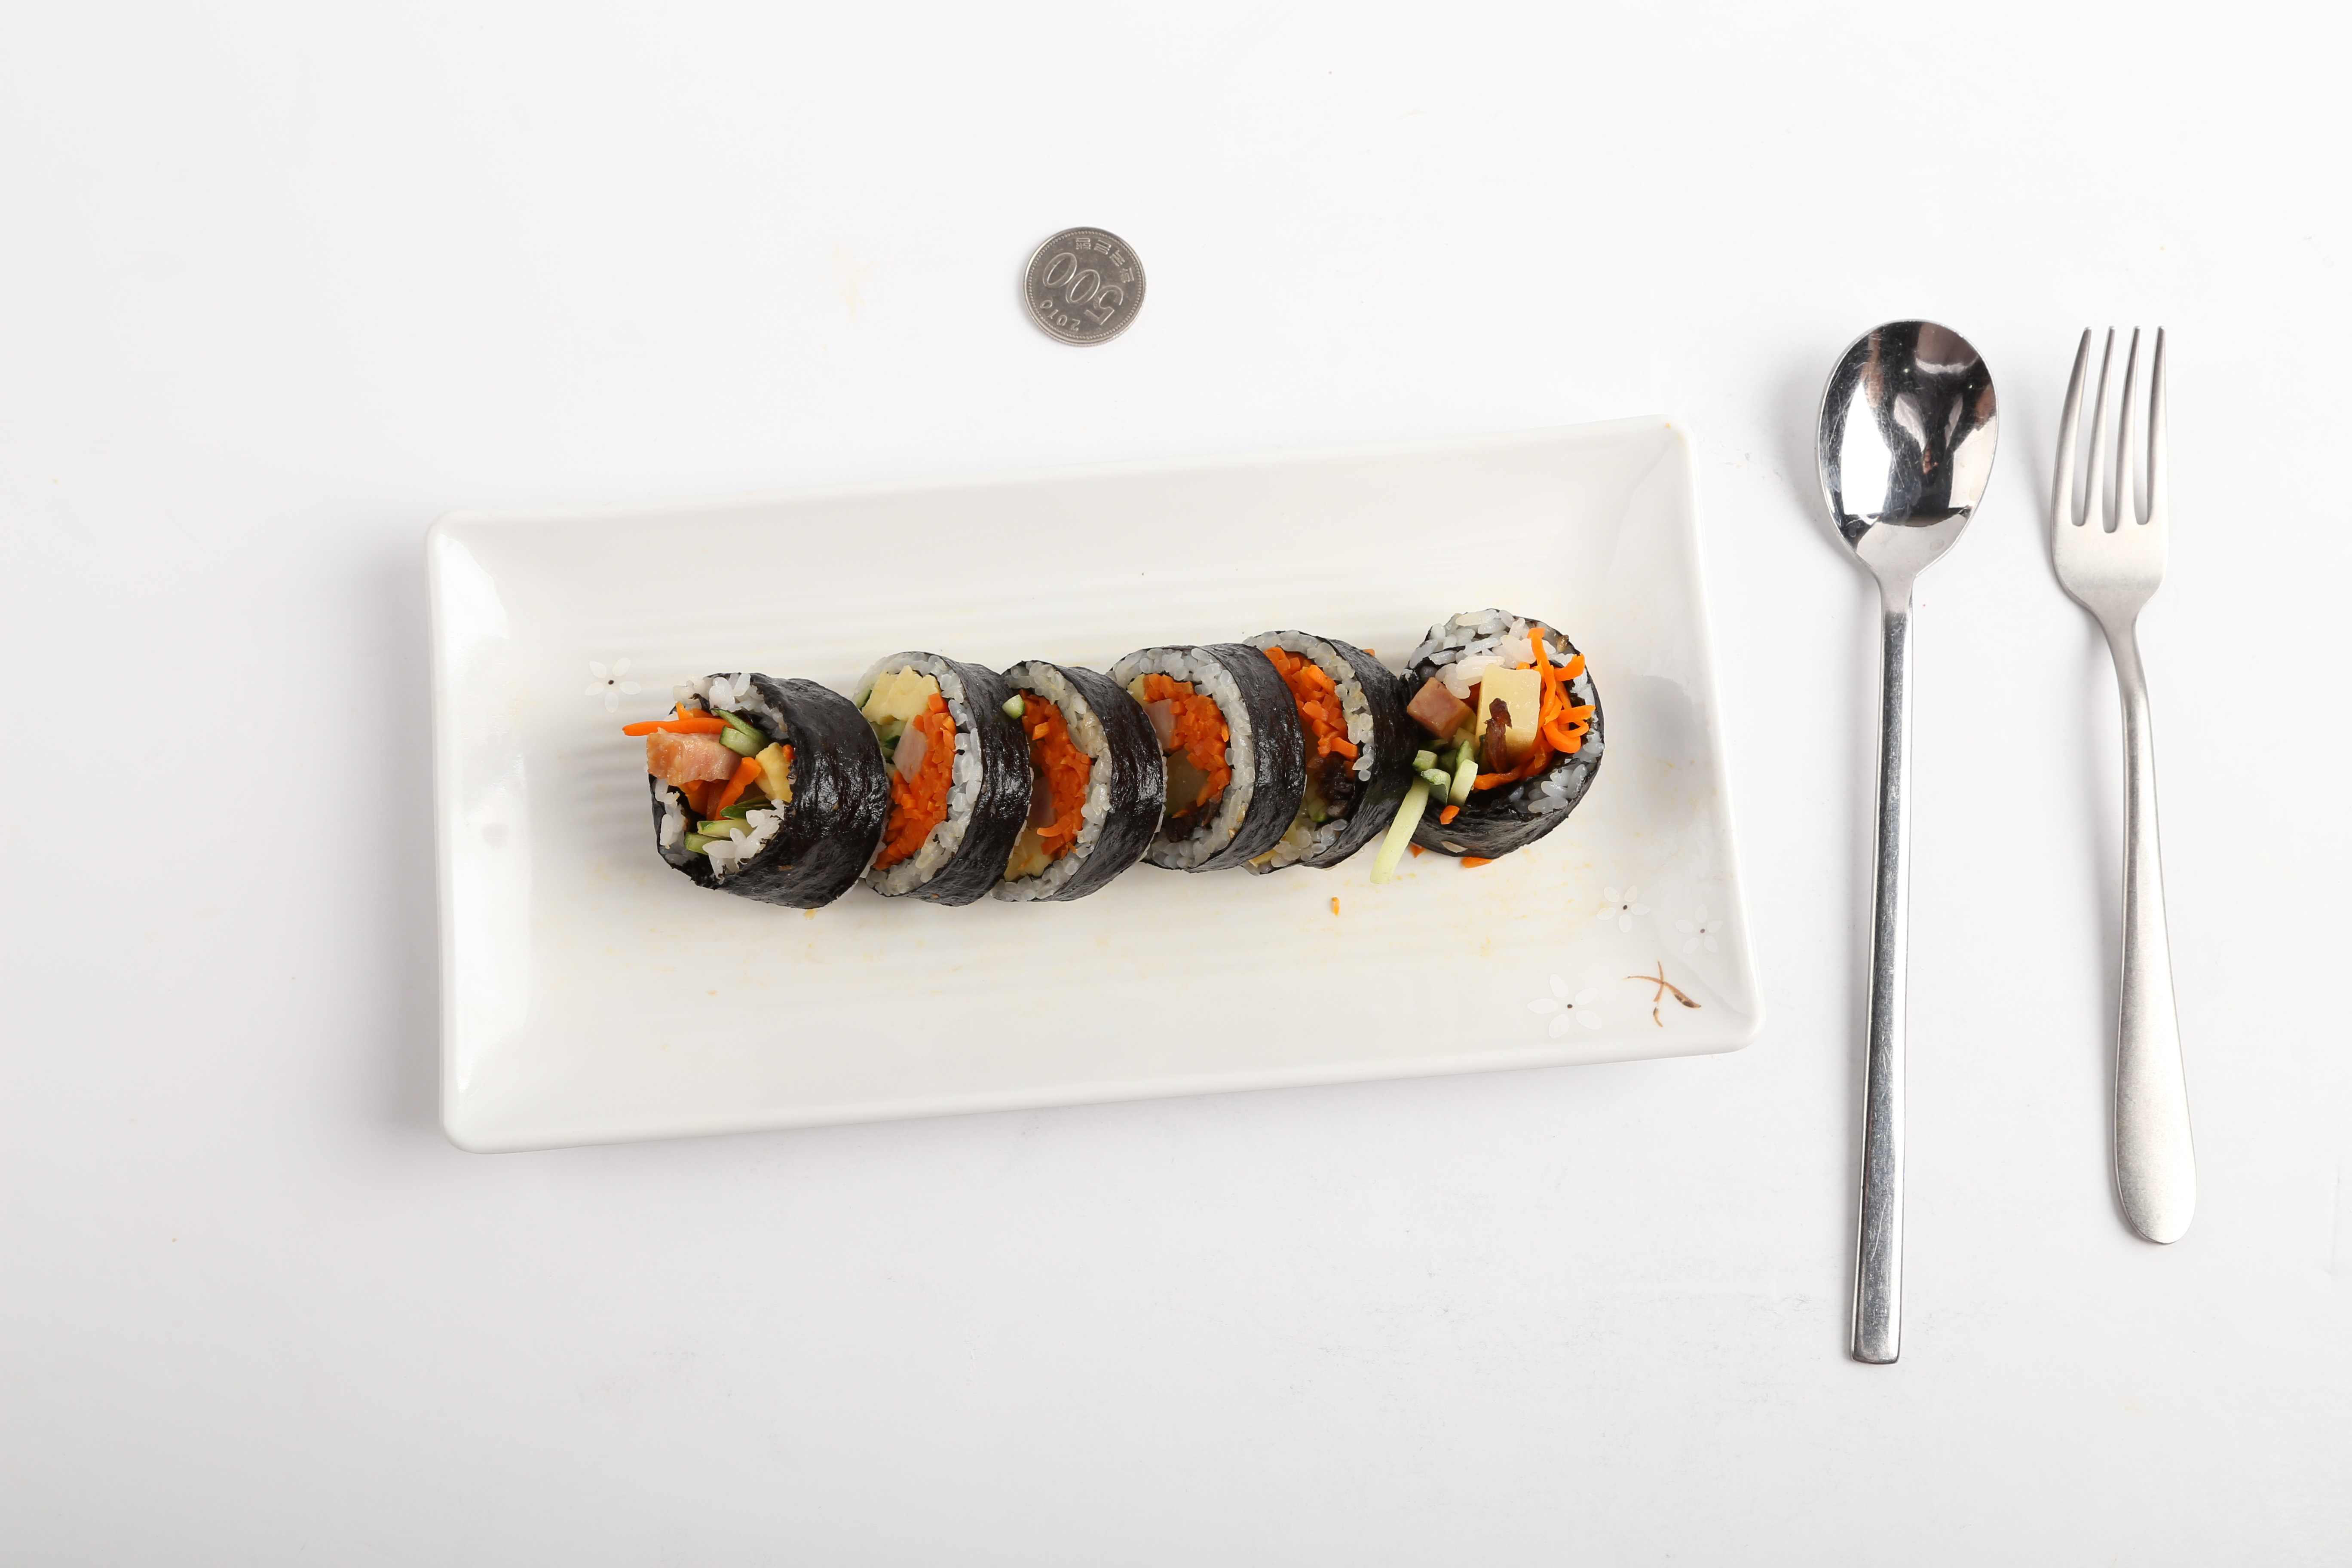dish: (418, 411, 1760, 1155)
ref_coin: (1013, 222, 1150, 348)
ref_fork: (2040, 324, 2177, 674)
ref_spoon: (1815, 315, 1998, 639)
김밥: (642, 605, 1612, 913)
